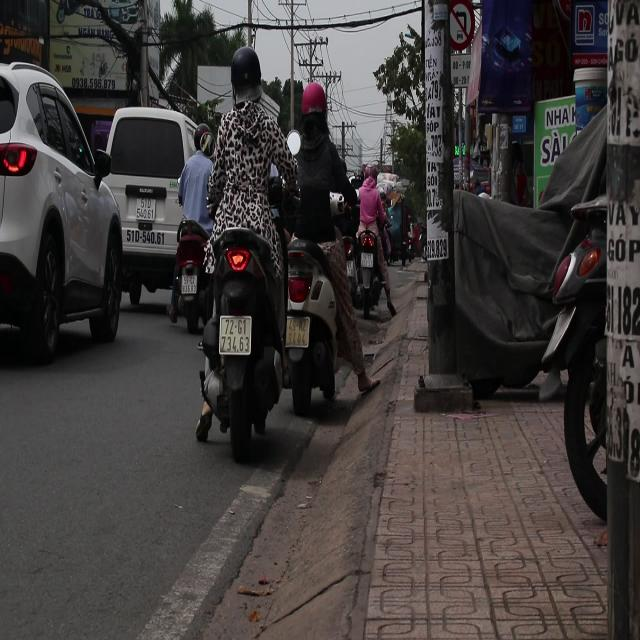car: (0, 55, 128, 368), (98, 107, 205, 316)
motorbike: (194, 222, 289, 456), (282, 232, 374, 417), (350, 208, 392, 338), (167, 222, 212, 332)
